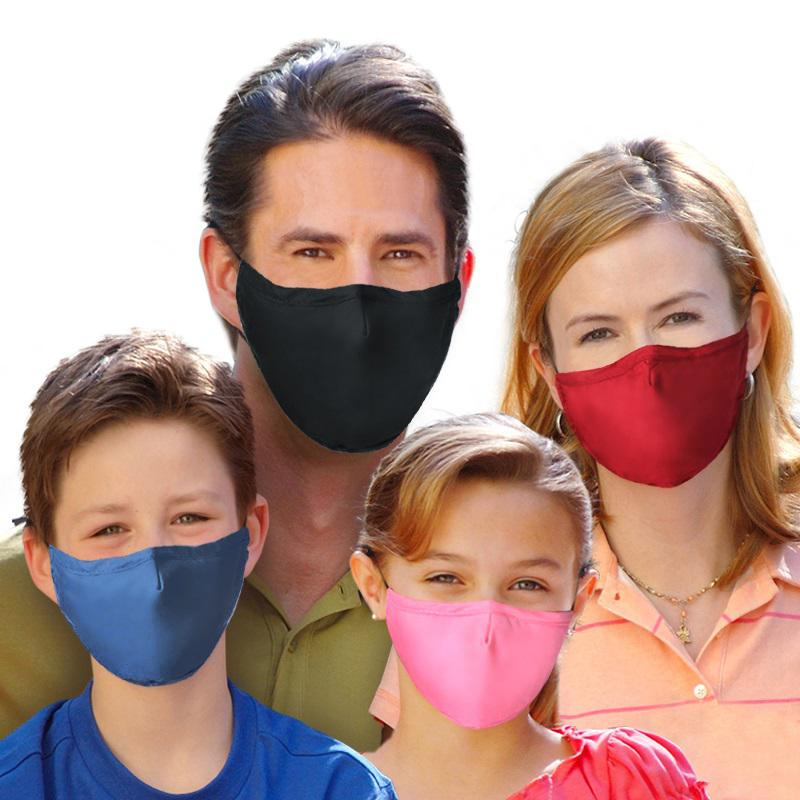OK: (235, 215, 468, 448), (539, 275, 748, 484), (54, 484, 250, 680), (391, 532, 587, 728)
